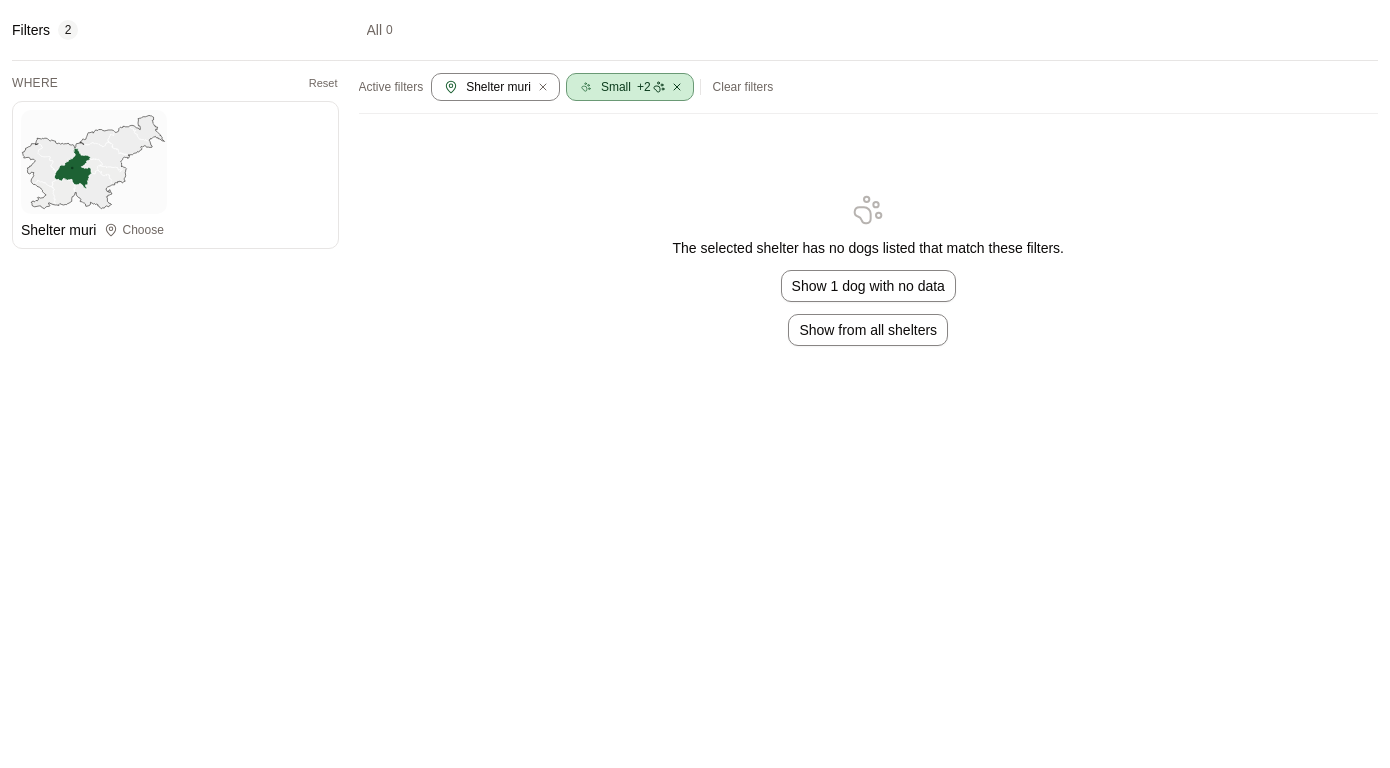
Test: animal grid empty state › qualifies shelter matches when size excludes its dogs in en
Expected: the text "The selected shelter has no dogs listed that match these filters." is shown, [672, 238, 1064, 258]
Expected: the button "Show 1 dog with no data" is shown, [781, 270, 956, 302]
Click the button "Show from all shelters" at (868, 330), box [788, 314, 948, 346]
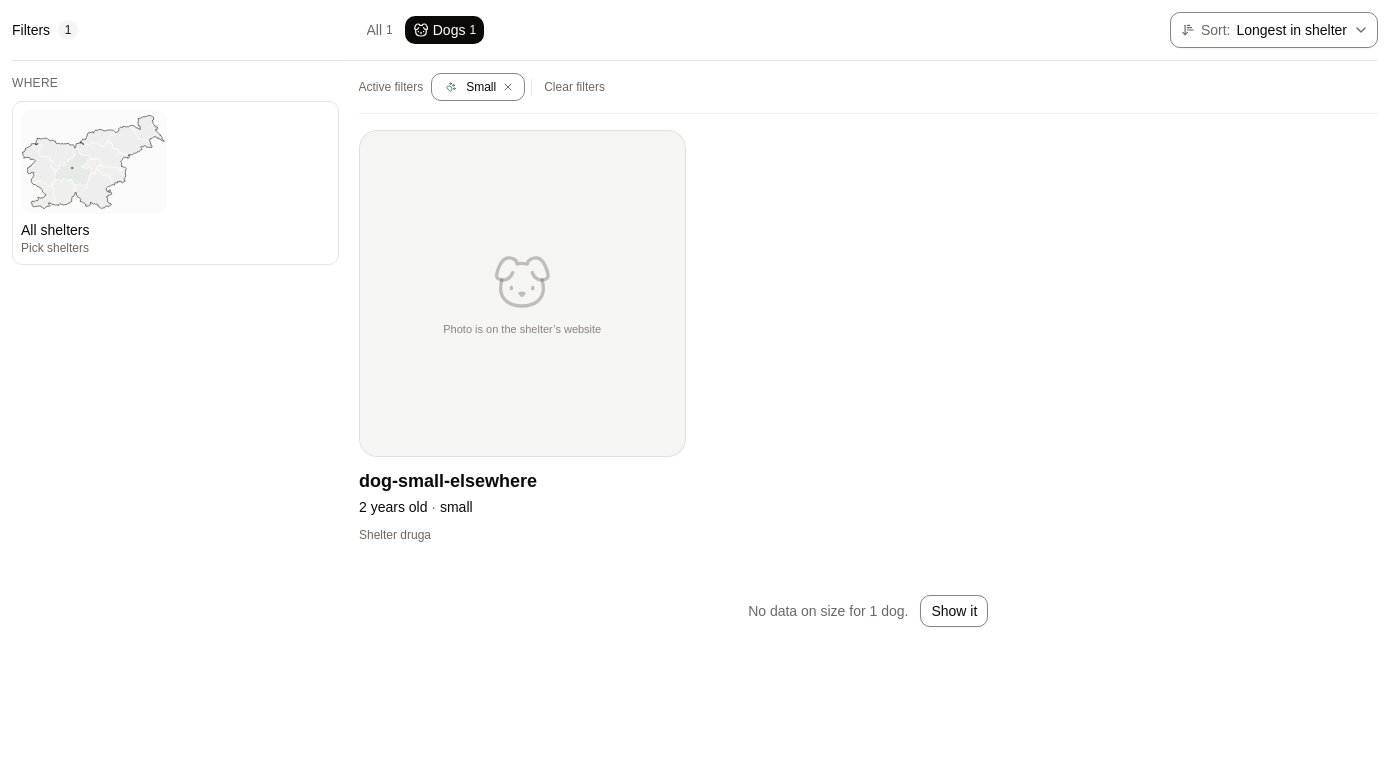
Result: the element "dog-small-elsewhere" is shown at [358, 130, 685, 554]
